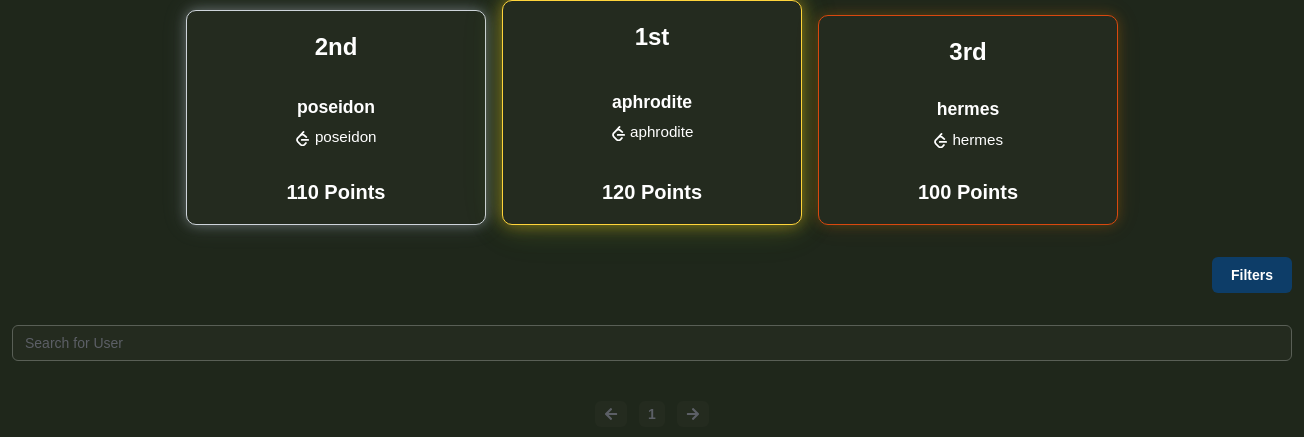
Test: Leaderboard API Succeeded › should show Clubs submenu item when Filters is clicked
Click the button "Filters".
click(1252, 275)  # box top-left (1212, 257), bottom-right (1292, 293)
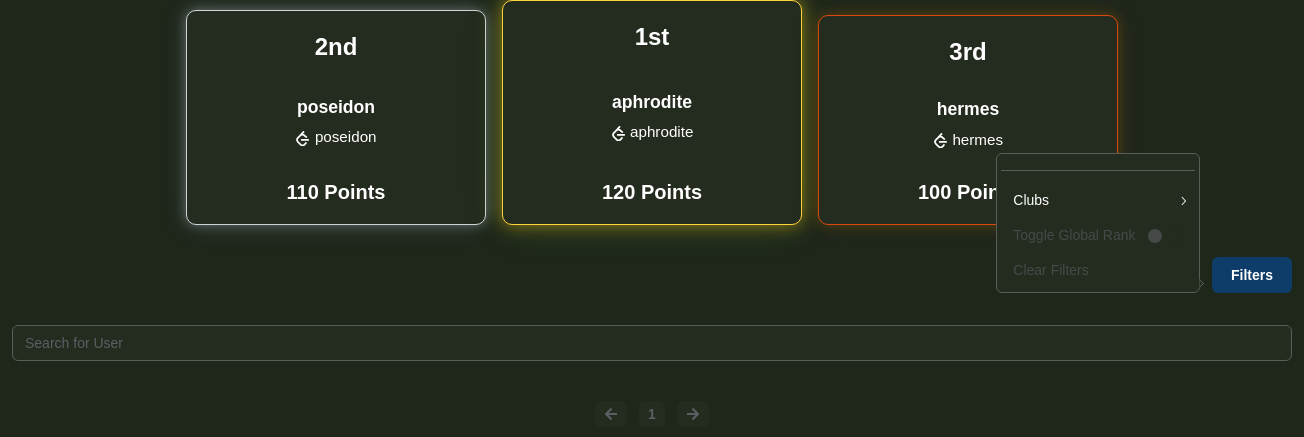
expect the text "Clubs" is shown: met, box top-left (1013, 192), bottom-right (1049, 208)
